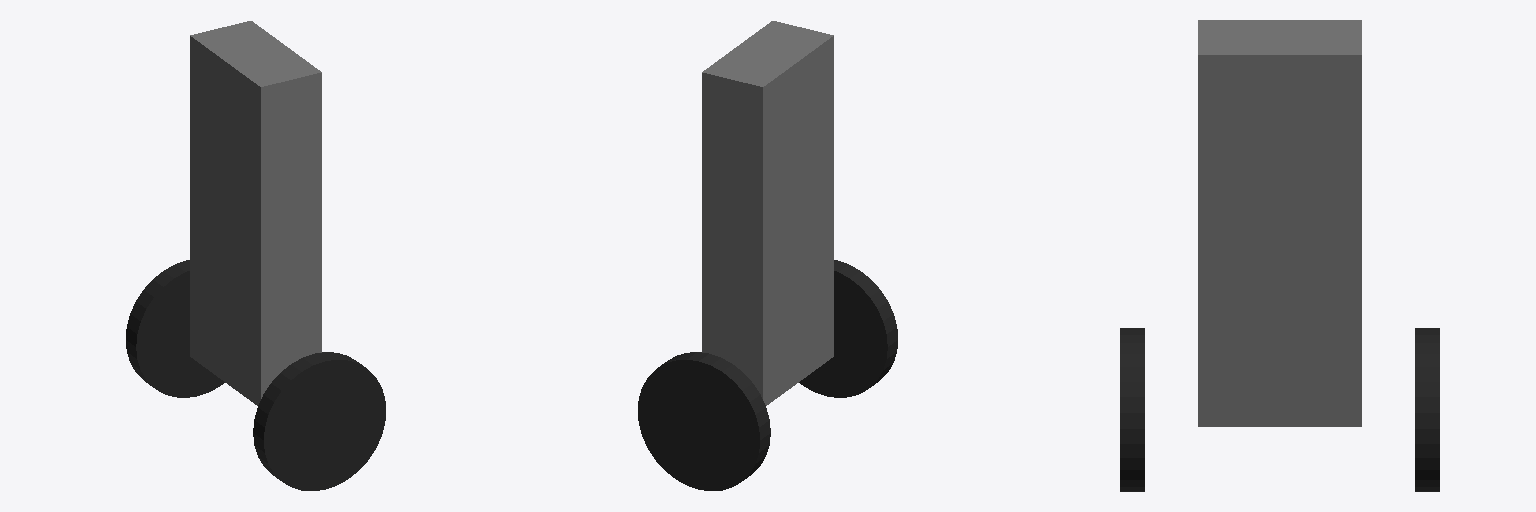
robot.urdf — body__32__:
<?xml version="1.0"?>
<robot name="body__32__">
    <material name="grey_light">
        <color rgba="0.5 0.5 0.5 1.0"/>
    </material>
    <material name="grey">
        <color rgba="0.2 0.2 0.2 1.0"/>
    </material>
    <link name="body__32__">
        <inertial>
            <origin rpy="-3.141593 3.141593 -3.141593" xyz="0.000000 0.000000 0.000000" />
            <inertia ixy="0.0" ixx="0.24166665971279" ixz="0.0" izz="0.04166666790843" iyz="0.0" iyy="0.21666666865349" />
            <mass value="10.0" />
        </inertial>
        <collision>
            <origin rpy="-3.141593 3.141593 -3.141593" xyz="0.000000 0.000000 0.000000" />
            <geometry>
                <box size="0.100000 0.200000 0.500000" />
            </geometry>
        </collision>
        <visual>
            <origin rpy="-3.141593 3.141593 -3.141593" xyz="0.000000 0.000000 0.000000" />
            <geometry>
                <box size="0.100000 0.200000 0.500000" />
            </geometry>
            <material name="grey_light"/>
        </visual>
    </link>
    
    
    
    <link name="Wheel1__34__">
        <inertial>
            <origin rpy="-3.141593 3.141593 -3.141593" xyz="0.000000 -0.000000 0.000000" />
            <inertia ixy="0.0" ixx="0.00060672010295093" ixz="0.0" izz="0.0011780972126871" iyz="0.0" iyy="0.00060672010295093" />
            <mass value="0.23561945557594" />
        </inertial>
        <collision>
            <origin rpy="-3.141593 3.141593 -3.141593" xyz="0.000000 0.000000 0.000000" />
            <geometry>
                <cylinder length="0.029999999329448" radius="0.10000000149012" />
            </geometry>
        </collision>
        <visual>
            <origin rpy="-3.141593 3.141593 -3.141593" xyz="0.000000 0.000000 0.000000" />
            <geometry>
                <cylinder length="0.029999999329448" radius="0.10000000149012" />
            </geometry>
            <material name="grey"/>
        </visual>
    </link>
    <joint name="Revolute_joint1__33__" type="continuous">
        <axis xyz="0 0 1" />
        <parent link="body__32__" />
        <child link="Wheel1__34__" />
        <origin rpy="-1.570770 3.141593 -3.141593" xyz="0.000000 -0.180000 -0.250000" />
    </joint>
    
    
    
    <link name="Wheel2__36__">
        <inertial>
            <origin rpy="-3.141593 3.141593 -3.141593" xyz="0.000000 -0.000000 0.000000" />
            <inertia ixy="0.0" ixx="0.00060672010295093" ixz="0.0" izz="0.0011780972126871" iyz="0.0" iyy="0.00060672010295093" />
            <mass value="0.23561945557594" />
        </inertial>
        <collision>
            <origin rpy="-3.141593 3.141593 -3.141593" xyz="0.000000 0.000000 0.000000" />
            <geometry>
                <cylinder length="0.029999999329448" radius="0.10000001639128" />
            </geometry>
        </collision>
        <visual>
            <origin rpy="-3.141593 3.141593 -3.141593" xyz="0.000000 0.000000 0.000000" />
            <geometry>
                <cylinder length="0.029999999329448" radius="0.10000000149012" />
            </geometry>
            <material name="grey"/>
        </visual>
    </link>
    <joint name="Revolute_joint2__35__" type="continuous">
        <axis xyz="0 0 1" />
        <parent link="body__32__" />
        <child link="Wheel2__36__" />
        <origin rpy="-1.570771 3.141593 3.141593" xyz="0.000000 0.180000 -0.250000" />
    </joint>
</robot>

--- Render facts (derived) ---
The picture shows the robot from 3 angles, left to right: view 1: azimuth 30°, elevation 25°; view 2: azimuth 150°, elevation 25°; view 3: azimuth 270°, elevation 25°; orthographic projection.
Model body__32__ with 3 links and 2 joints (2 continuous), rooted at body__32__, posed all joints at 0.
Visible links, largest first — view 1: body__32__, Wheel1__34__, Wheel2__36__; view 2: body__32__, Wheel2__36__, Wheel1__34__; view 3: body__32__, Wheel1__34__, Wheel2__36__.
Link boxes in pixels (<box>): body__32__: <box>190,21,321,405</box>; Wheel1__34__: <box>253,352,385,490</box>; Wheel2__36__: <box>126,260,224,397</box>; body__32__: <box>702,21,833,405</box>; Wheel2__36__: <box>638,352,770,490</box>; Wheel1__34__: <box>799,260,897,397</box>; body__32__: <box>1198,20,1361,426</box>; Wheel1__34__: <box>1120,328,1144,491</box>; Wheel2__36__: <box>1415,328,1439,491</box>.
Size in the robot's own frame: 0.2 by 0.39 by 0.6 metres.
Geometry: primitives only (box / cylinder / sphere), no mesh files.